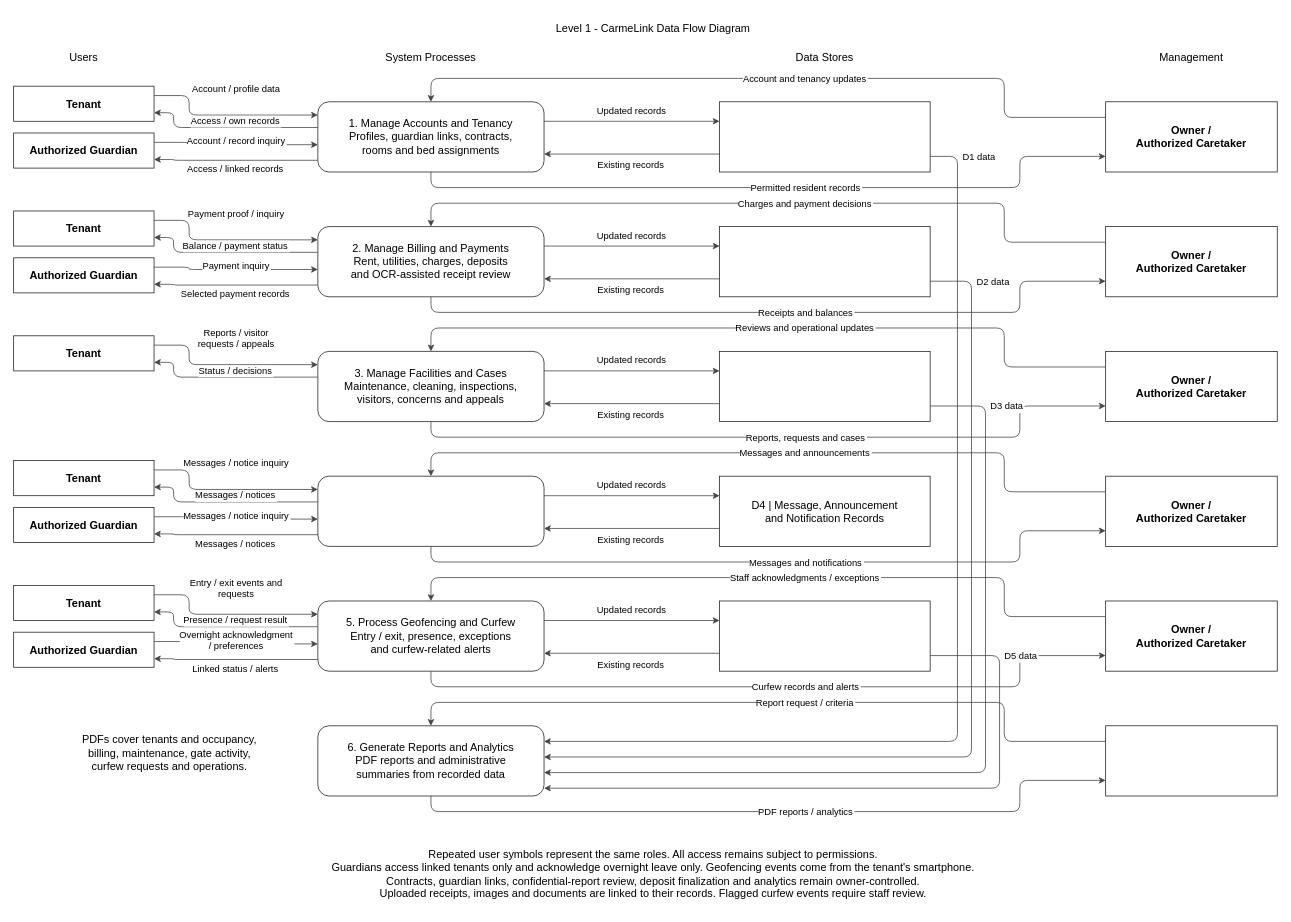
The diagram is 1291 pixels wide and 922 high, and some of its shapes have lost their labels. Each missing label, with the centre of its shape:
4. Manage Communication Private messages, announcements and system notifications: the point at 430,510
D1 | User, Tenant, Guardian, Contract and Room Records: the point at 824,136
D2 | Billing, Payment, Deposit and Receipt Records: the point at 824,261
D3 | Maintenance, Inspection, Visitor and Case Records: the point at 824,386
D5 | Presence, Gate Activity, Curfew and Exception Records: the point at 824,635
Owner: the point at 1191,760
